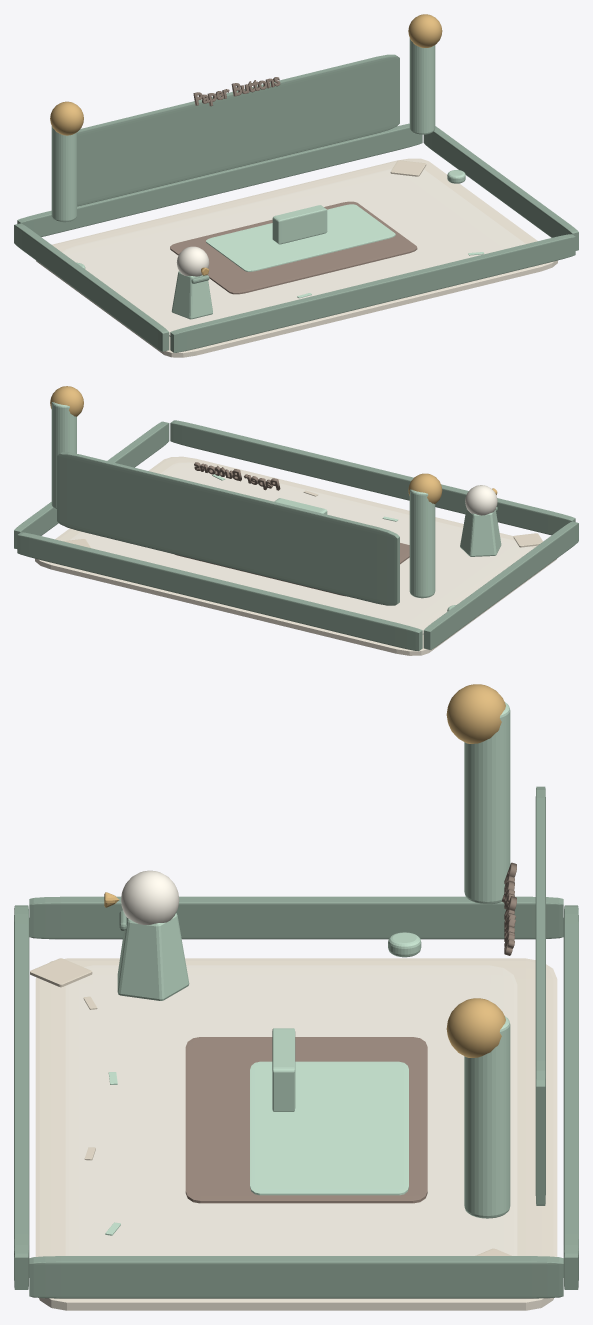
Rendered from 14_ui_elements.glb.
The picture shows the model from 3 angles, top to bottom: view 1: azimuth 30°, elevation 25°; view 2: azimuth 150°, elevation 25°; view 3: azimuth 270°, elevation 25°; orthographic projection. The views are drawn at different scales.
Visible parts, largest first — view 1: BackCard, FloorLayerInset, SouthRail-col, NorthRail-col, PaperFloor-col, StageMatHighlight, StageMat, WestRail-col, EastRail-col, PaperLantern.001, FpeRushPlayer, PaperLantern (+5 smaller); view 2: BackCard, FloorLayerInset, NorthRail-col, SouthRail-col, PaperFloor-col, WestRail-col, PaperLantern, FpeRushPlayer, EastRail-col, PaperLantern.001, TitleLabel, LanternGlow.001 (+2 smaller); view 3: FloorLayerInset, PaperFloor-col, EastRail-col, StageMatHighlight, WestRail-col, StageMat, PaperLantern.001, PaperLantern, FpeRushPlayer, NorthRail-col, SouthRail-col, BackCard (+5 smaller).
Boxes of the visible parts, x1,y1,x2,y2 form: BackCard: (77, 54, 399, 206); FloorLayerInset: (62, 168, 525, 336); SouthRail-col: (170, 234, 575, 352); NorthRail-col: (17, 123, 422, 236); PaperFloor-col: (36, 158, 557, 357); StageMatHighlight: (206, 204, 395, 271); StageMat: (170, 201, 417, 294); WestRail-col: (14, 223, 169, 351); EastRail-col: (423, 126, 578, 250); PaperLantern.001: (409, 38, 435, 134); FpeRushPlayer: (171, 246, 212, 319); PaperLantern: (51, 126, 76, 222); BackCard: (57, 452, 399, 605); FloorLayerInset: (70, 462, 533, 634); NorthRail-col: (17, 532, 422, 650); SouthRail-col: (170, 420, 575, 535); PaperFloor-col: (35, 456, 556, 655); WestRail-col: (423, 521, 578, 649); PaperLantern: (409, 489, 435, 598); FpeRushPlayer: (460, 485, 501, 556); EastRail-col: (14, 421, 169, 548); PaperLantern.001: (51, 402, 76, 509); TitleLabel: (194, 462, 280, 490); LanternGlow.001: (50, 386, 83, 416); FloorLayerInset: (65, 965, 517, 1255); PaperFloor-col: (35, 958, 557, 1310); EastRail-col: (29, 1256, 563, 1298); StageMatHighlight: (250, 1061, 408, 1195); WestRail-col: (29, 896, 563, 939); StageMat: (185, 1037, 427, 1203); PaperLantern.001: (464, 1016, 510, 1218); PaperLantern: (464, 702, 510, 904); FpeRushPlayer: (104, 870, 189, 1000); NorthRail-col: (563, 905, 578, 1289); SouthRail-col: (14, 905, 29, 1289); BackCard: (535, 786, 545, 1205).
Bounding box in the file's own units: 6.8 × 2.56 × 4.44.
